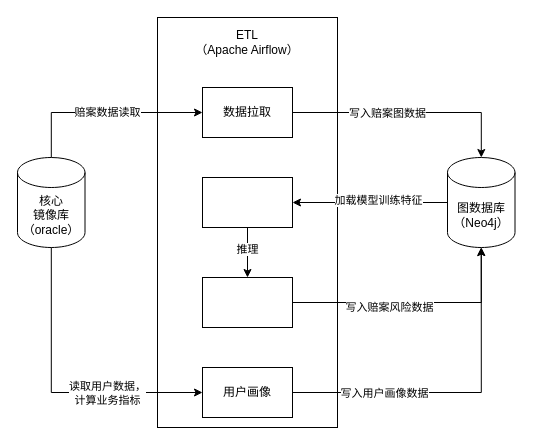
The diagram is 533 pixels wide and 445 high, and some of its shapes have lost their labels. The shapes that lost their labels are listed below. From the top down, each one's centre as x and y in pixels, then its label:
At point 247,202: "风控模型".
At point 247,302: "风险标签".
